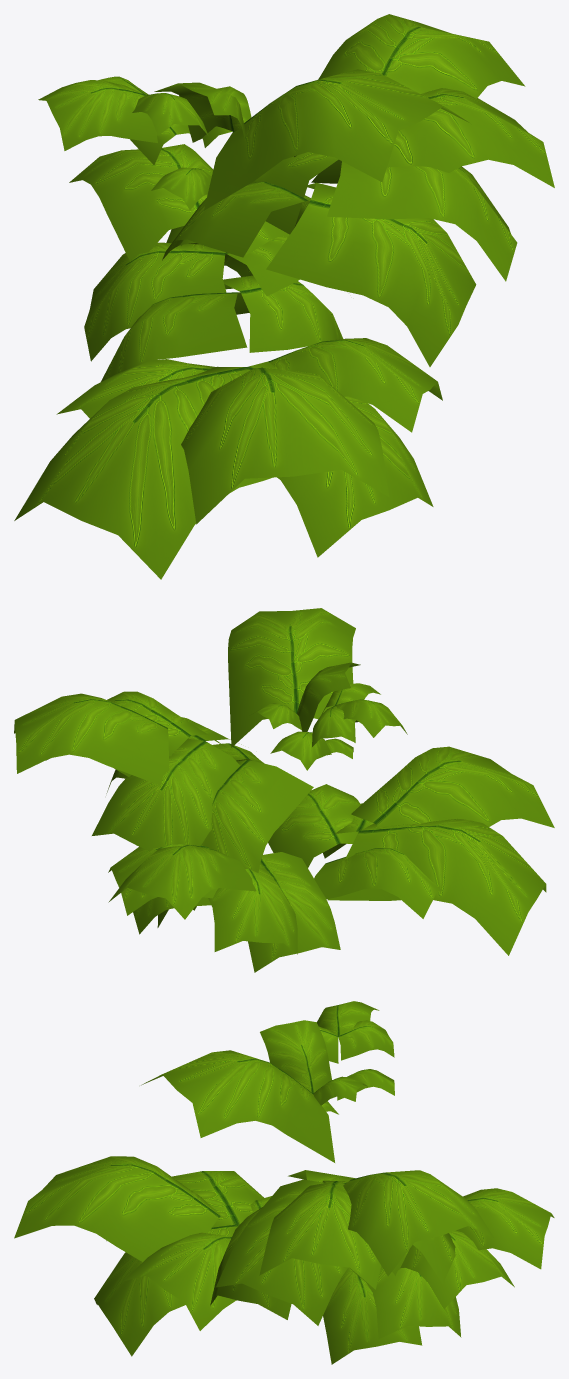
The model's file is BambooSet_part_33.fbx.
3 renders of one model, top to bottom at view 1: azimuth 30°, elevation 25°; view 2: azimuth 150°, elevation 25°; view 3: azimuth 270°, elevation 25°, orthographic. The views are drawn at different scales.
Visible parts, largest first — view 1: Object_58.001; view 2: Object_58.001; view 3: Object_58.001.
Boxes of the visible parts, left/top/right/bottom form: Object_58.001: left=14, top=14, right=554, bottom=579; Object_58.001: left=14, top=608, right=554, bottom=972; Object_58.001: left=14, top=1001, right=554, bottom=1364.
Bounding box in the file's own units: 1521 × 922 × 1573.
